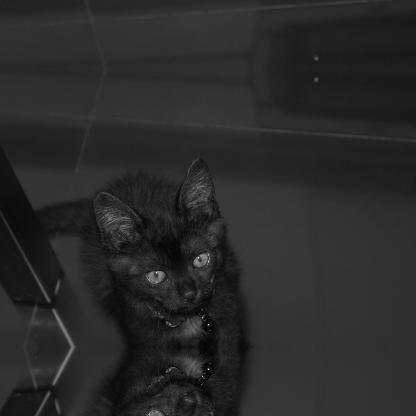Cat: (35, 155, 246, 345), (34, 347, 246, 415)
